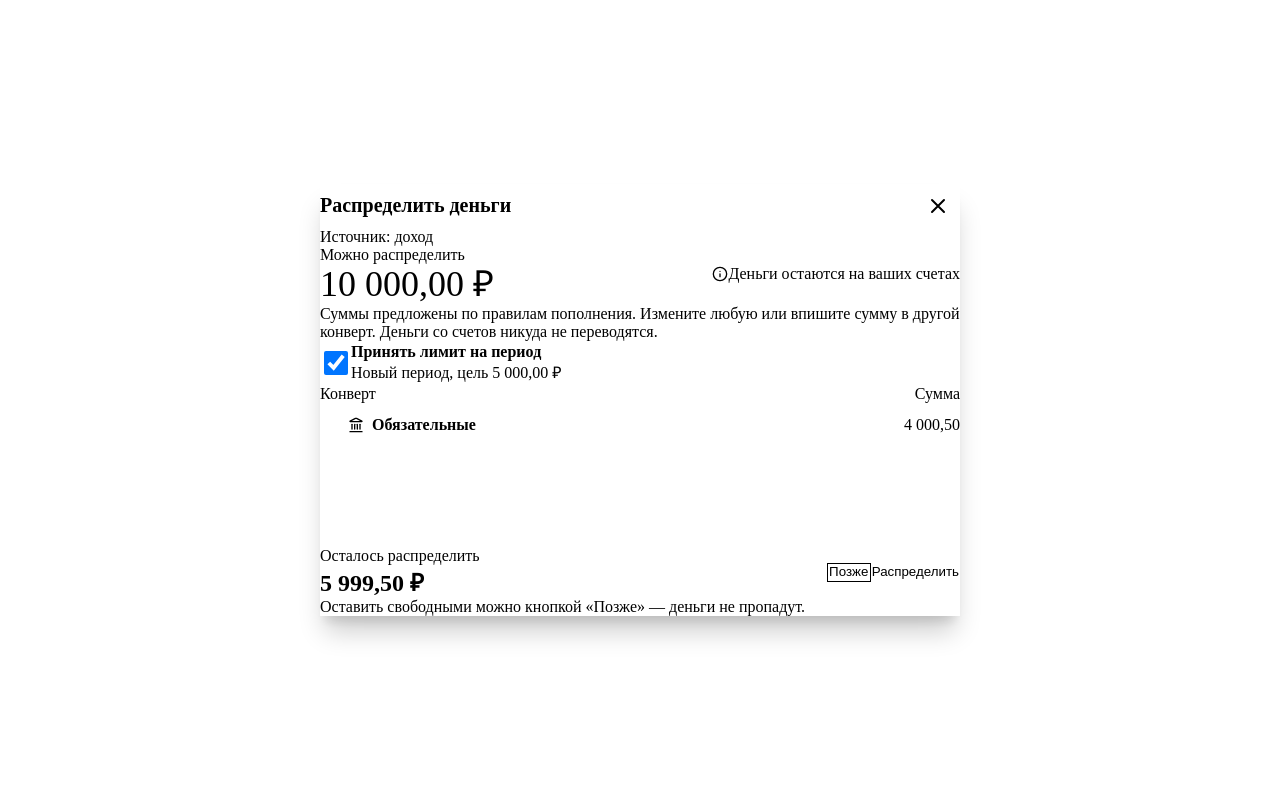
Test: FundingEntryHost › shows Refresh on PREVIEW_STALE and refresh requests a new preview
Click the button "Распределить". click: (915, 573)
box: 871,563 -> 960,582
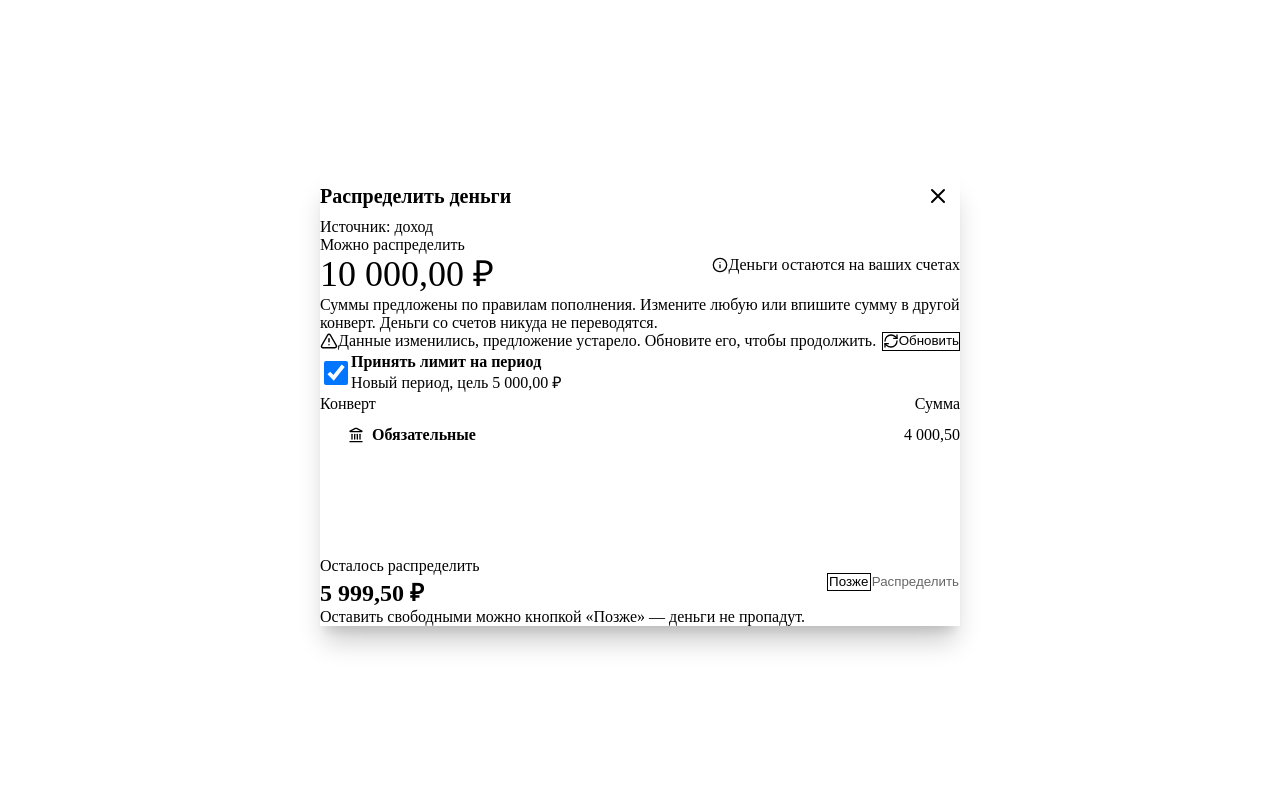
Now the message with test id "funding-stale" is shown, box 320,332 -> 960,351
Click the button "Обновить". click: (921, 341)
box: 882,332 -> 960,351
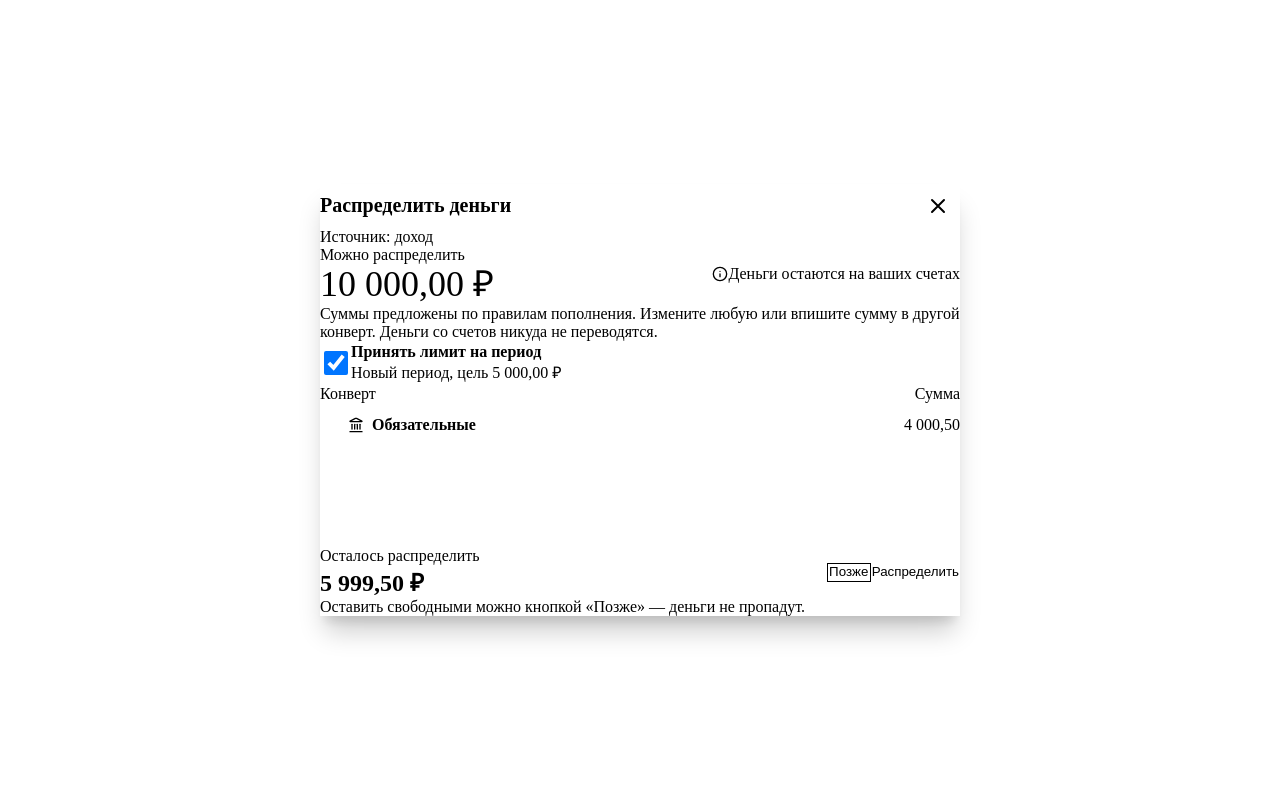
Now the message with test id "funding-stale" is gone
